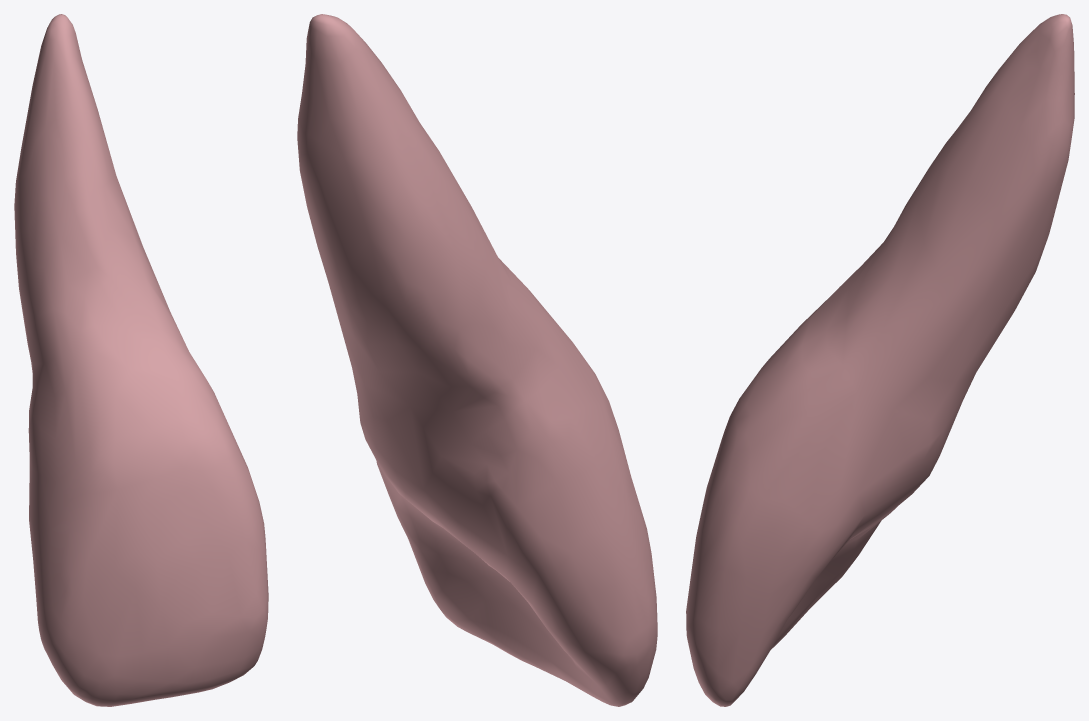
The model's file is fma55681_mm822m.glb.
The picture shows the model from 3 angles, left to right: view 1: azimuth 30°, elevation 25°; view 2: azimuth 150°, elevation 25°; view 3: azimuth 270°, elevation 25°; orthographic projection. The views are drawn at different scales.
Parts seen in each view (by area): view 1: FMA55681_MM822M; view 2: FMA55681_MM822M; view 3: FMA55681_MM822M.
Part boxes in pixels (x1,y1,x2,y2): FMA55681_MM822M: (14, 14, 268, 706); FMA55681_MM822M: (297, 14, 657, 706); FMA55681_MM822M: (686, 14, 1074, 706).
Bounding box in the file's own units: 0.00806 × 0.0229 × 0.0118.
